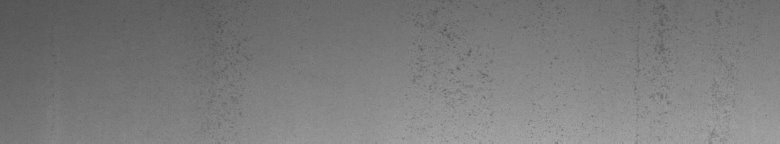ib: (413, 8, 488, 94)
